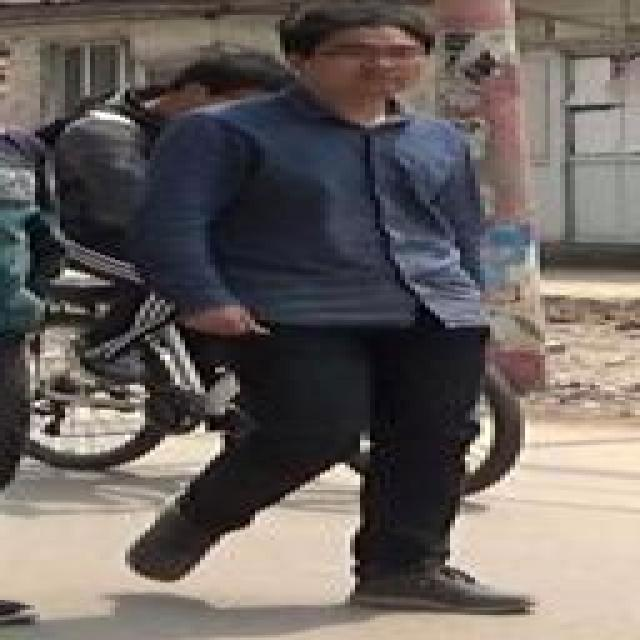adult: (122, 13, 534, 607), (44, 53, 313, 405)
